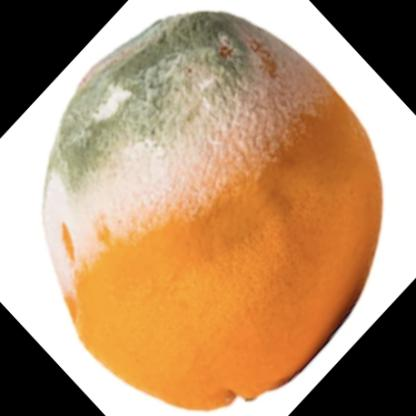rotten: (44, 8, 382, 410)
